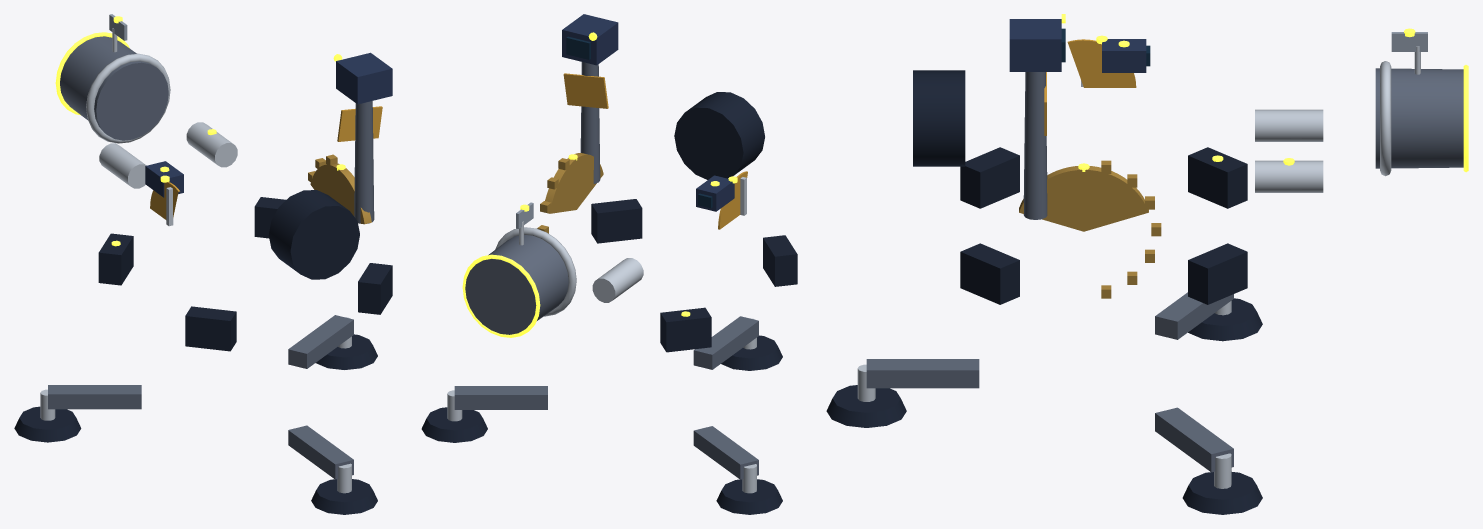
File: tower_nova_range_s10.glb
3 views of the same model, side by side, from view 1: azimuth 30°, elevation 25°; view 2: azimuth 150°, elevation 25°; view 3: azimuth 270°, elevation 25° (orthographic). The views are drawn at different scales.
Visible parts, largest first — view 1: nova_tube_extension, nova_counterweight, nova_outrigger_arm0, nova_spotter_head, nova_spotter_mast, nova_ballast3, nova_outrigger_arm1, nova_outrigger_arm2, nova_outrigger_pad2, nova_outrigger_pad0, nova_ballast2, nova_ballast0 (+10 smaller); view 2: nova_tube_extension, nova_counterweight, nova_outrigger_arm1, nova_ballast2, nova_ballast0, nova_arc_gear, nova_spotter_head, nova_outrigger_arm2, nova_outrigger_arm0, nova_outrigger_pad0, nova_outrigger_pad1, nova_ballast3 (+9 smaller); view 3: nova_tube_extension, nova_counterweight, nova_arc_gear, nova_outrigger_arm2, nova_spotter_mast, nova_ballast1, nova_ballast2, nova_ballast3, nova_ballast0, nova_spotter_head, nova_outrigger_arm1, nova_outrigger_pad1 (+8 smaller).
Part boxes in pixels (left/top/right/bottom): nova_tube_extension: left=60, top=36, right=168, bottom=140; nova_counterweight: left=268, top=190, right=359, bottom=279; nova_outrigger_arm0: left=48, top=385, right=141, bottom=409; nova_spotter_head: left=336, top=52, right=392, bottom=104; nova_spotter_mast: left=354, top=101, right=374, bottom=223; nova_ballast3: left=185, top=306, right=236, bottom=351; nova_outrigger_arm1: left=288, top=315, right=353, bottom=368; nova_outrigger_arm2: left=288, top=425, right=353, bottom=479; nova_outrigger_pad2: left=311, top=479, right=377, bottom=514; nova_outrigger_pad0: left=14, top=406, right=81, bottom=442; nova_ballast2: left=358, top=263, right=392, bottom=314; nova_ballast0: left=98, top=233, right=133, bottom=285; nova_tube_extension: left=465, top=235, right=568, bottom=334; nova_counterweight: left=674, top=92, right=764, bottom=179; nova_outrigger_arm1: left=454, top=386, right=547, bottom=409; nova_ballast2: left=591, top=199, right=642, bottom=243; nova_ballast0: left=660, top=307, right=711, bottom=352; nova_arc_gear: left=545, top=153, right=603, bottom=213; nova_spotter_head: left=562, top=14, right=618, bottom=65; nova_outrigger_arm2: left=693, top=316, right=758, bottom=369; nova_outrigger_arm0: left=693, top=426, right=758, bottom=479; nova_outrigger_pad0: left=716, top=479, right=782, bottom=514; nova_outrigger_pad1: left=421, top=407, right=487, bottom=442; nova_ballast3: left=763, top=235, right=797, bottom=286; nova_tube_extension: left=1375, top=68, right=1463, bottom=168; nova_counterweight: left=913, top=70, right=965, bottom=166; nova_arc_gear: left=1019, top=166, right=1148, bottom=231; nova_outrigger_arm2: left=866, top=359, right=979, bottom=388; nova_spotter_mast: left=1023, top=72, right=1047, bottom=219; nova_ballast1: left=1188, top=243, right=1247, bottom=304; nova_ballast2: left=960, top=243, right=1019, bottom=304; nova_ballast3: left=960, top=147, right=1019, bottom=208; nova_ballast0: left=1188, top=147, right=1247, bottom=208; nova_spotter_head: left=1009, top=19, right=1061, bottom=71; nova_outrigger_arm1: left=1155, top=407, right=1233, bottom=472; nova_outrigger_pad1: left=1182, top=472, right=1262, bottom=514.
Size of the model in its own units: 2.44 by 2.42 by 3.19.
